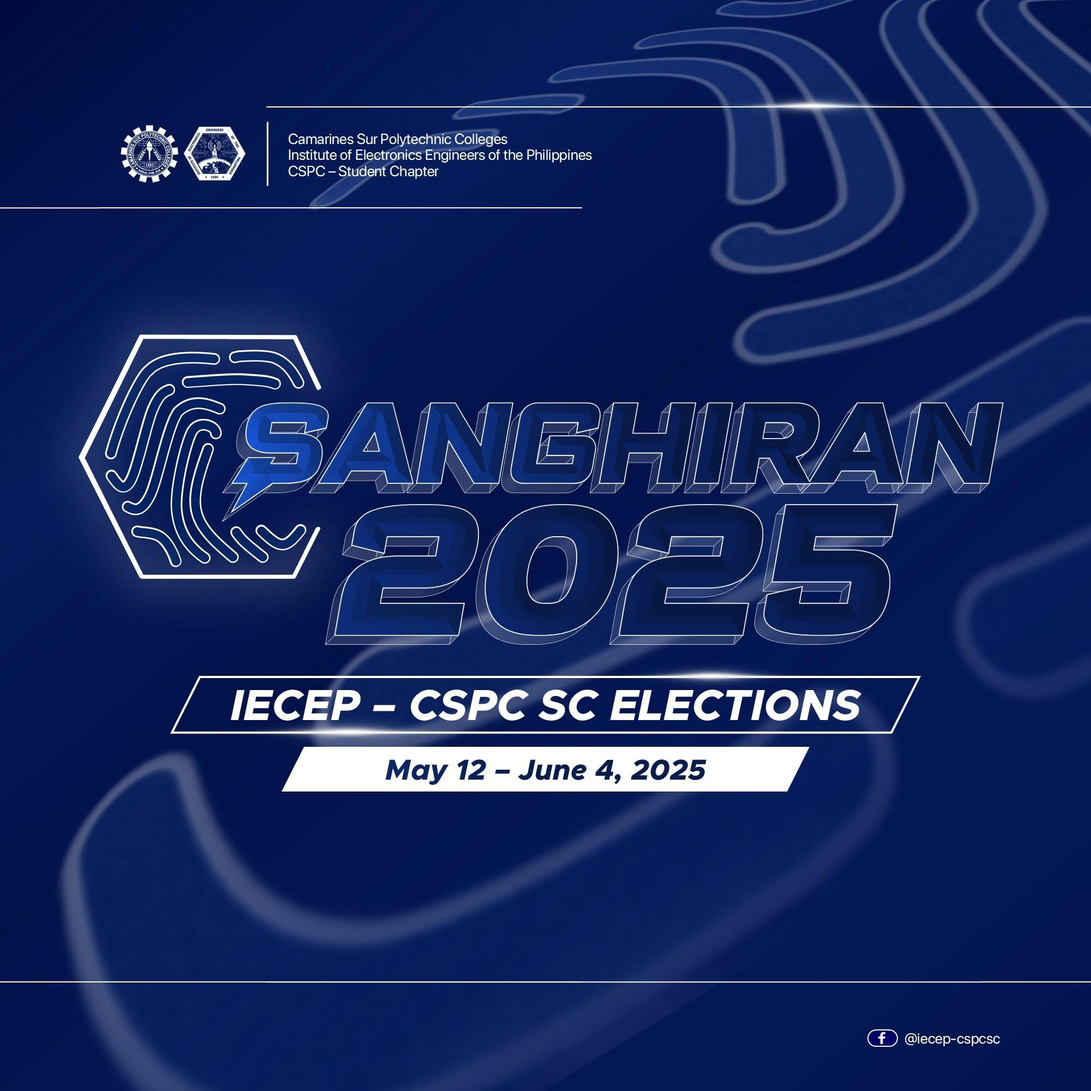embellishment: (70, 331, 334, 585), (978, 0, 1090, 140), (866, 1025, 901, 1051)
logo: (116, 121, 183, 188), (183, 121, 251, 186)
text: (221, 394, 1017, 655), (224, 679, 867, 726), (282, 125, 603, 181), (380, 753, 713, 784), (904, 1029, 1002, 1048)
underlay: (167, 672, 926, 736), (279, 740, 813, 793)
